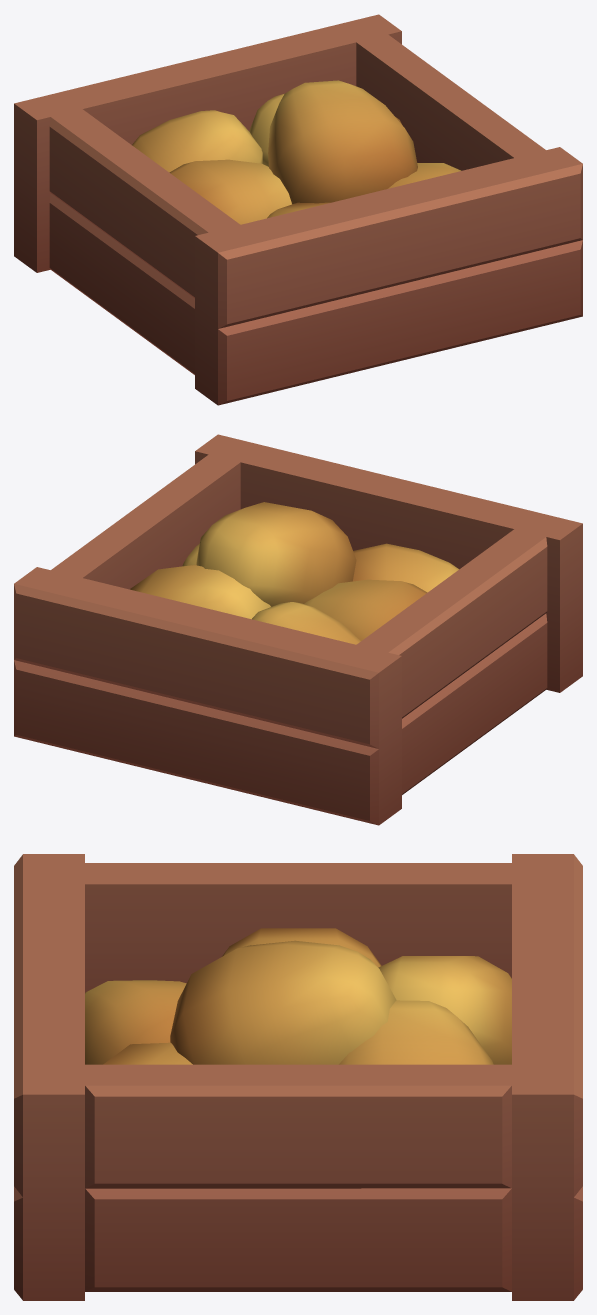
File: potato_counter.glb
The picture shows the model from 3 angles, top to bottom: view 1: azimuth 30°, elevation 25°; view 2: azimuth 150°, elevation 25°; view 3: azimuth 270°, elevation 25°; orthographic projection. The views are drawn at different scales.
Parts seen in each view (by area): view 1: crate_potatoes; view 2: crate_potatoes; view 3: crate_potatoes.
Boxes of the visible parts, x1,y1,x2,y2 form: crate_potatoes: (14,14,582,405); crate_potatoes: (14,434,582,825); crate_potatoes: (14,854,582,1300).
Bounding box in the file's own units: 2 × 0.9658 × 2.
1 material, 1 textured.
